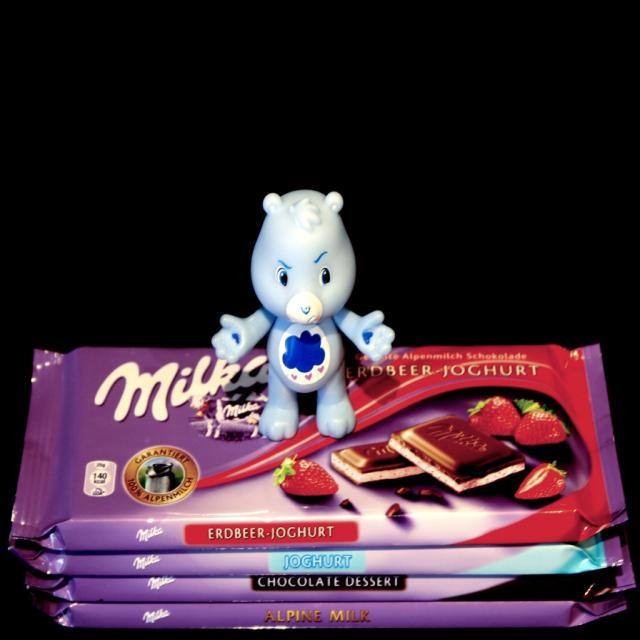milka: (90, 357, 276, 444), (134, 522, 166, 548), (145, 577, 177, 596), (142, 608, 170, 629), (132, 554, 162, 571)
